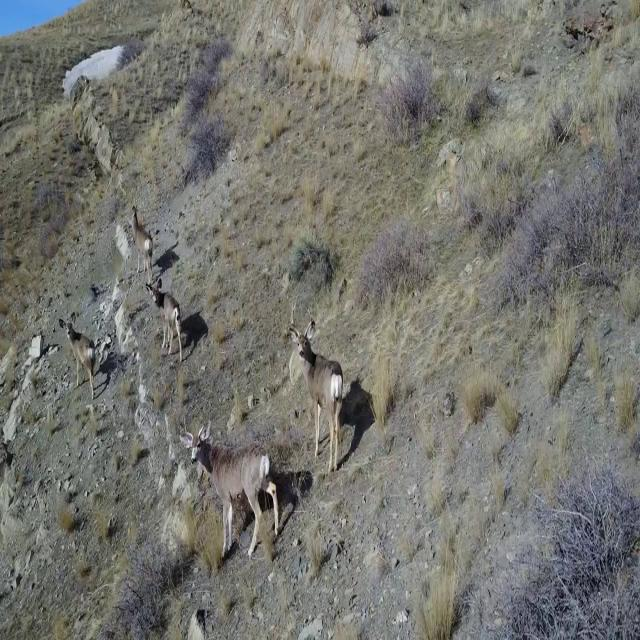Deer: (177, 416, 281, 559), (286, 297, 348, 474), (59, 313, 101, 402), (148, 274, 186, 362), (127, 204, 155, 282)
